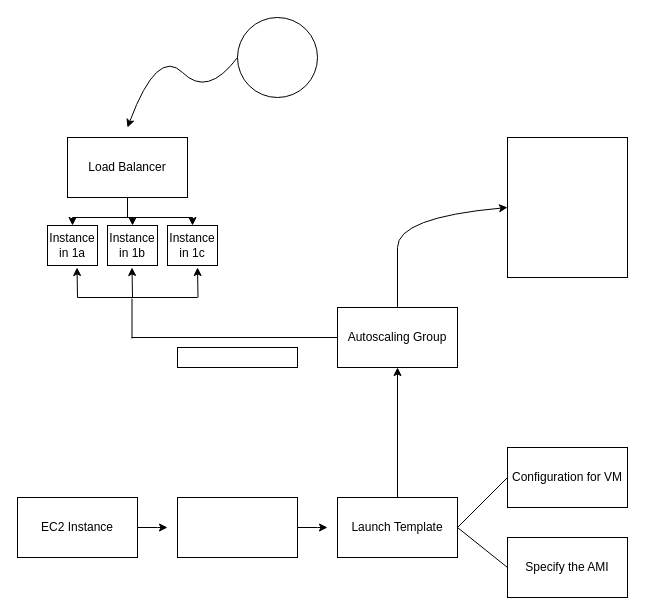
Image size: 645x615. Some labels were removed from this diagram. Here are the shapes that lost their labels. From the top down, the centre of each, then its label:
At (x=277, y=57): "Users".
At (x=567, y=207): "Auto Scale Policy - Minumum of 2 - Desired, 2 - Maximum of 3 - CPU 50%".
At (x=237, y=357): "Spinning up".
At (x=237, y=527): "AMI".
